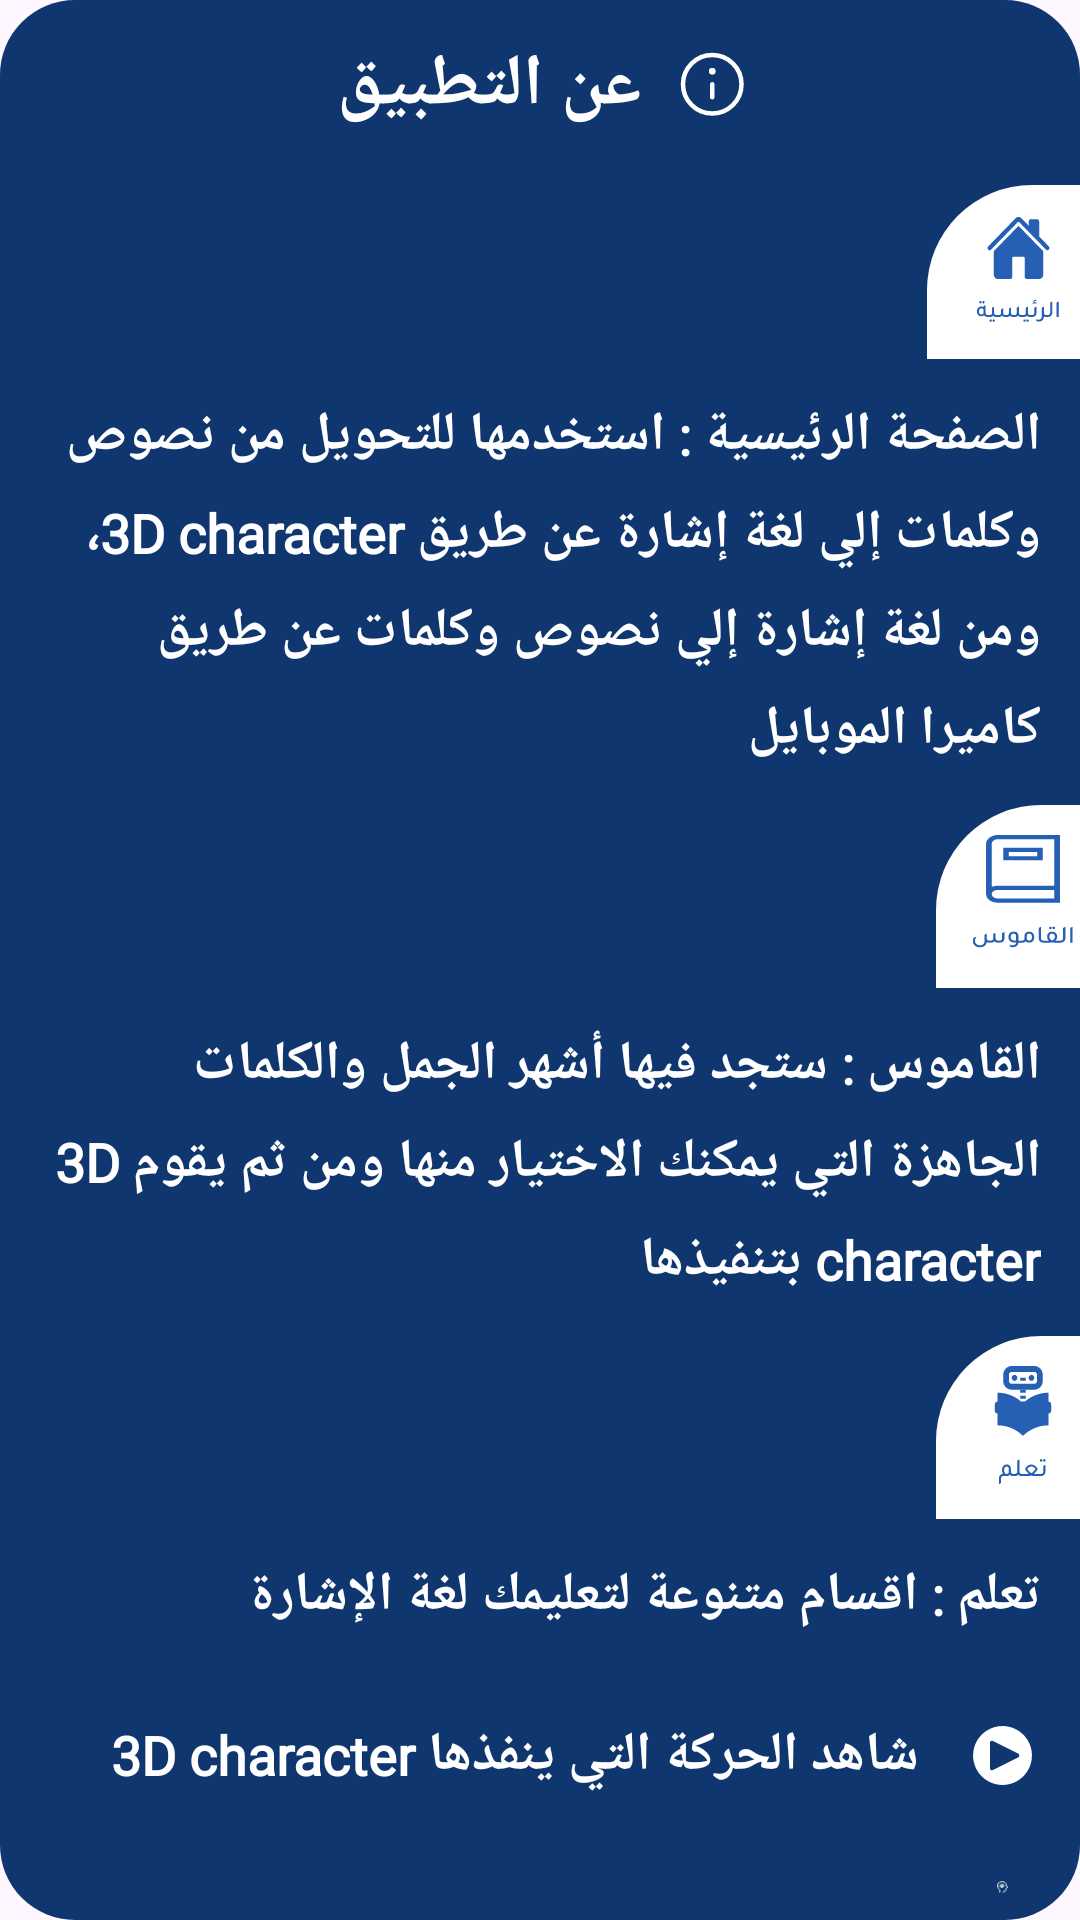

Icons on this 1080x1920 Android screen, each with the point to tap as (x,y):
info: (712,84)
play: (1002,1755)
